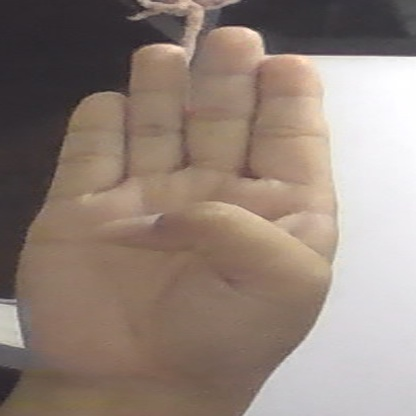B: (16, 22, 339, 411)
